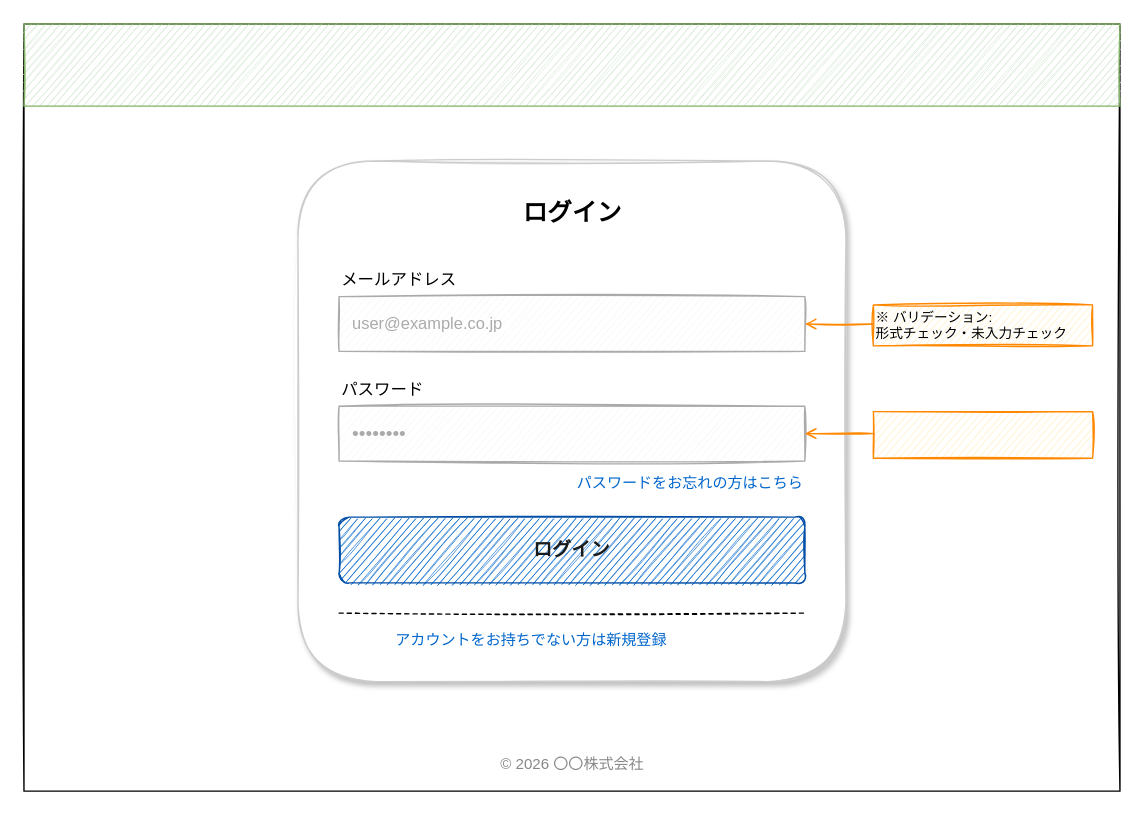
The diagram is 1144 pixels wide and 815 high, and some of its shapes have lost their labels. Here are the shapes that lost their labels. From the top down, the centre of each, then its label:
At [571,64]: "ロゴ / システム名".
At [982,434]: "※ マスク表示。 表示/非表示切り替えボタンあり".
